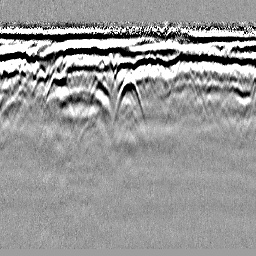cavity: (112, 70, 146, 126)
